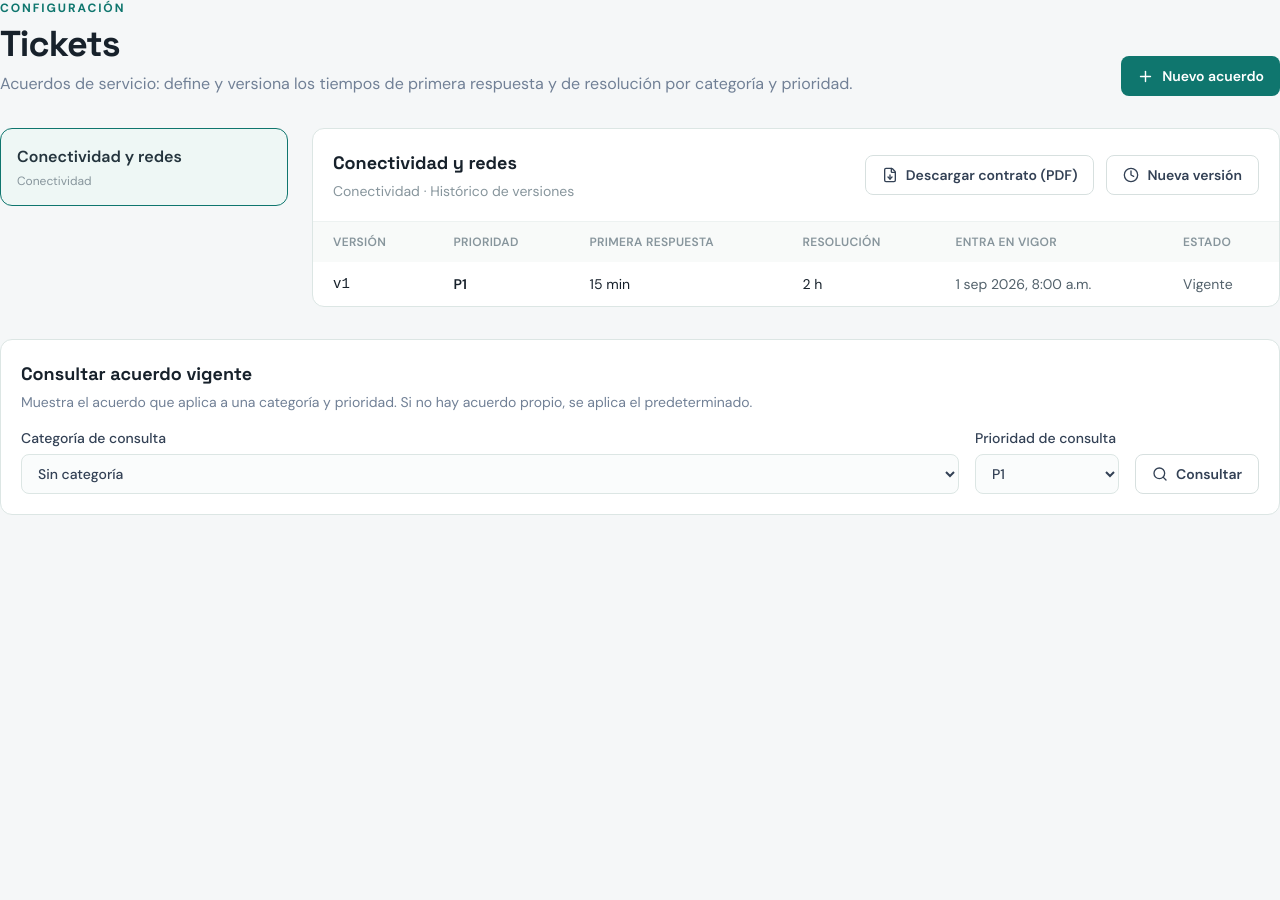
Test: SlaPage: configuración de Tickets (S2-14, COR-05, HU-08.1) › COR-05: exige elegir un tipo de servicio
Expected: the text "v1" is shown, [313,262,434,306]
Click the button "Nuevo acuerdo" at coordinates (1201, 76), box [1121,56,1279,96]
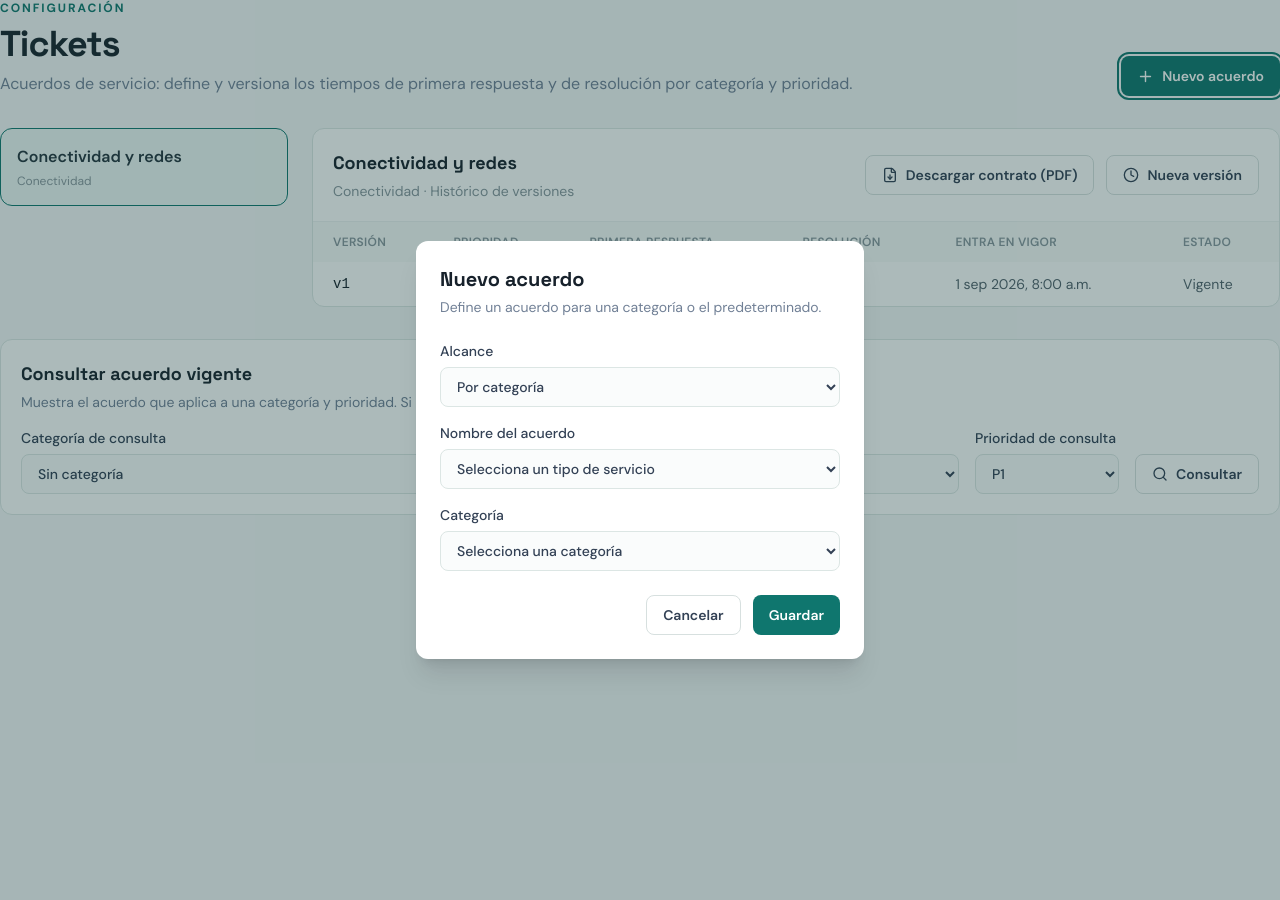
Select "Conectividad" in the dropdown labelled "Categoría" at coordinates (640, 551), box [440,531,840,571]
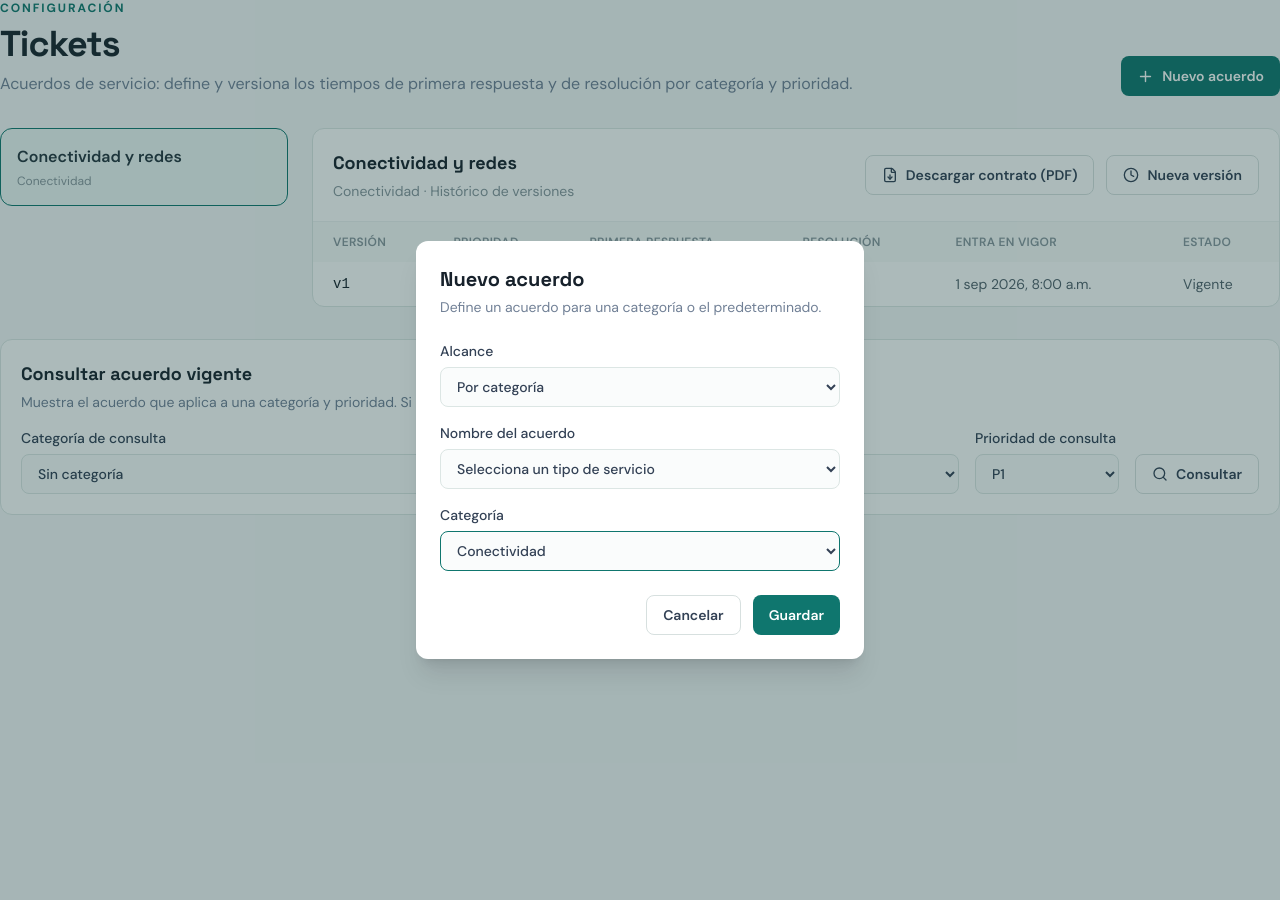
Click the button "Guardar" at coordinates (796, 615), box [753,595,840,635]
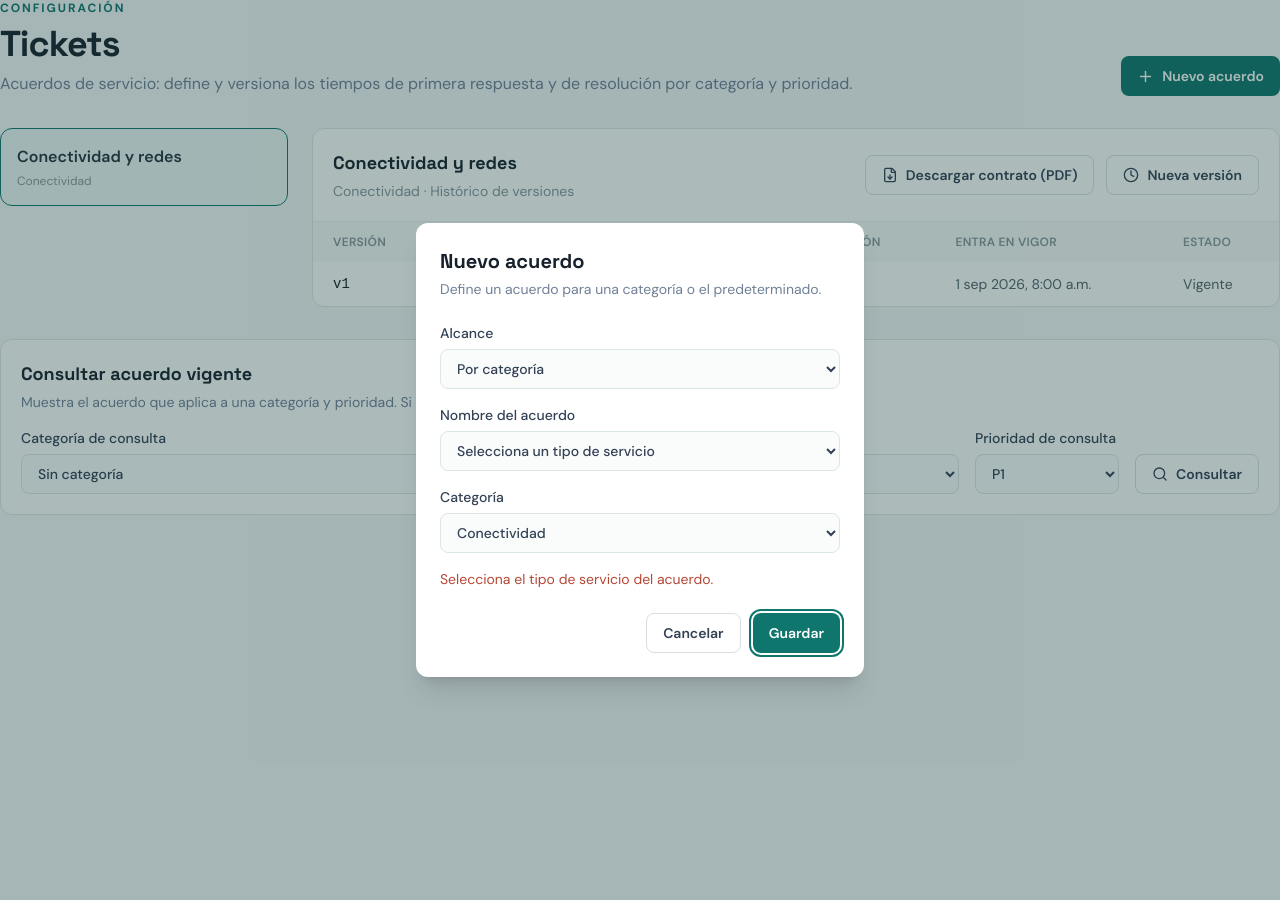
Expected: the text "Selecciona el tipo de servicio del acuerdo." is shown, [440,570,713,588]
